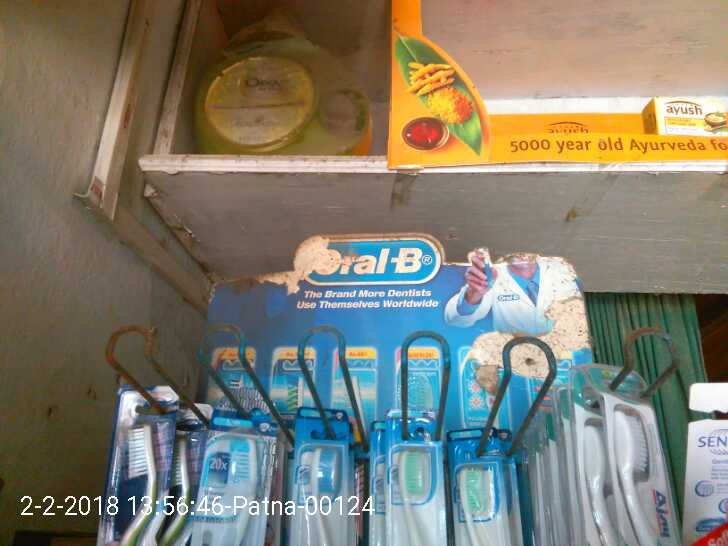oralb: (192, 435, 269, 546), (109, 419, 174, 545), (288, 441, 358, 546), (381, 445, 439, 545), (448, 469, 510, 542)
